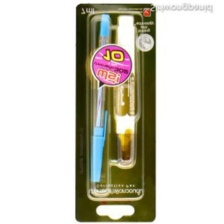book: (71, 1, 159, 223)
correction_fluid: (110, 13, 140, 167)
